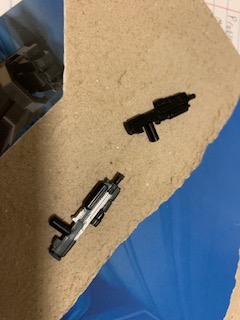rifle: (45, 171, 126, 261), (120, 90, 199, 145)
